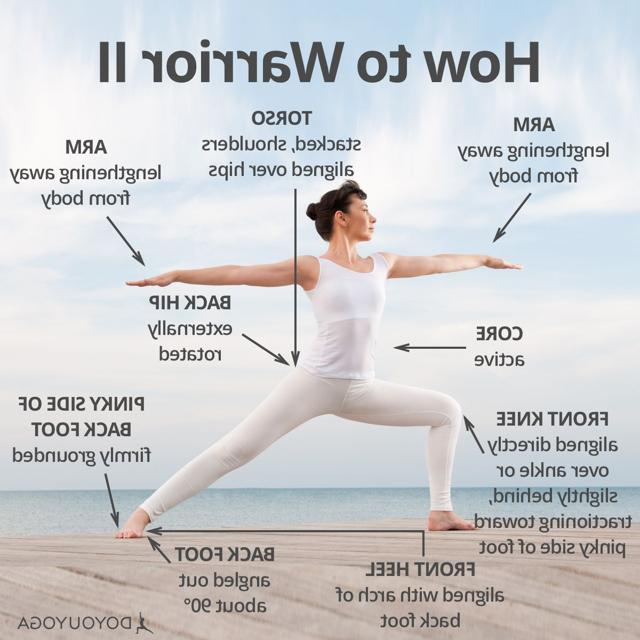Warrior_II: (119, 175, 518, 542)
